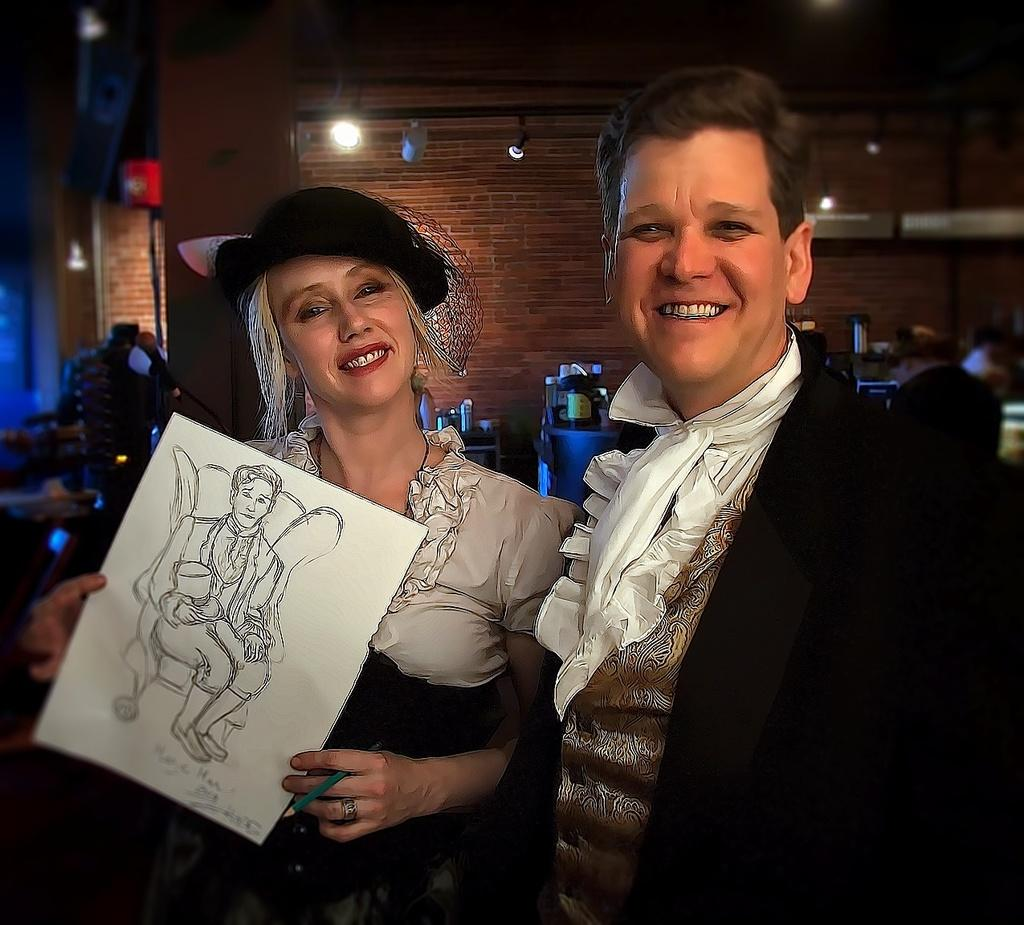Hat: (212, 184, 466, 379)
